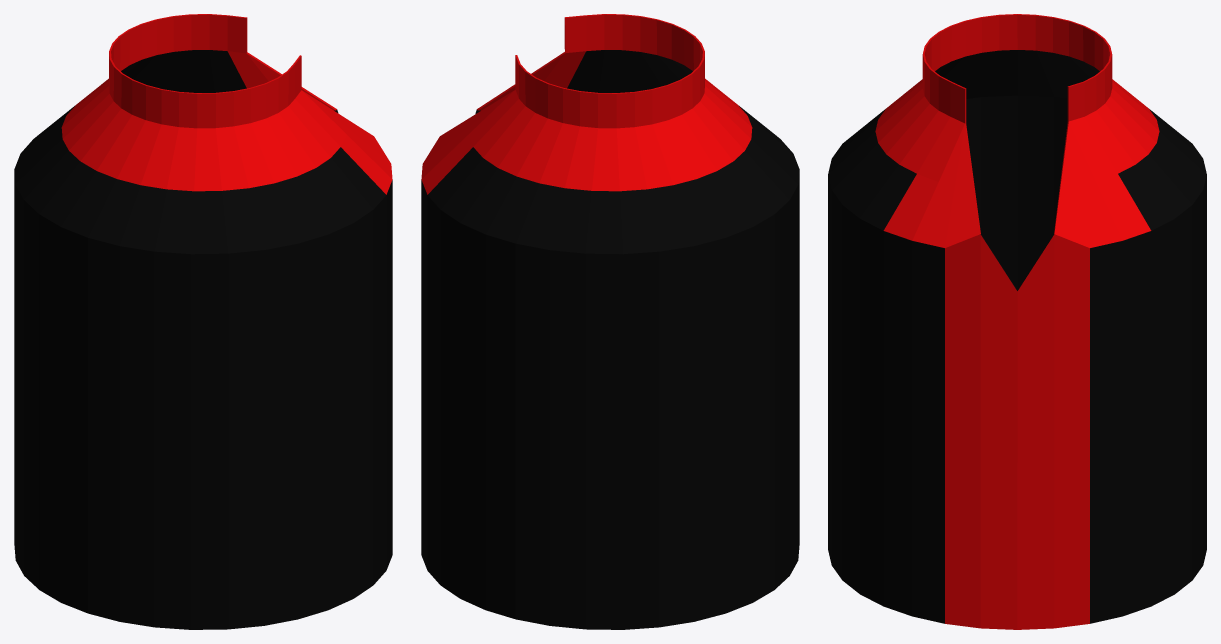
File: hood.fbx
3 views of the same model, side by side, from view 1: azimuth 30°, elevation 25°; view 2: azimuth 150°, elevation 25°; view 3: azimuth 270°, elevation 25° (orthographic).
Parts seen in each view (by area): view 1: Cone; view 2: Cone; view 3: Cone.
Part boxes in pixels (x1,y1,x2,y2): Cone: [14, 14, 392, 629]; Cone: [421, 14, 799, 629]; Cone: [828, 14, 1206, 629].
Size of the model in its own units: 200 by 289 by 200.
